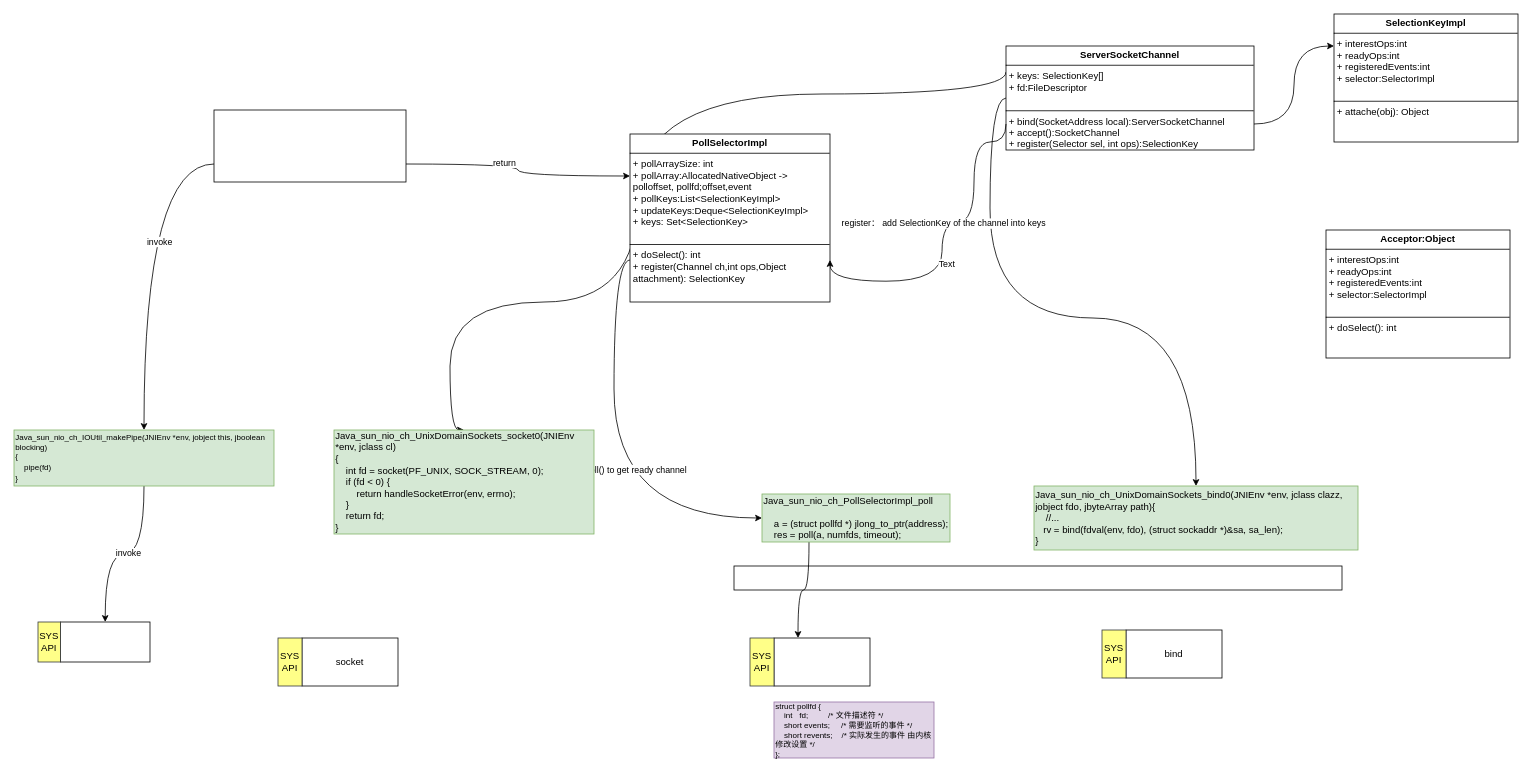
Image size: 1532x773. Some labels were removed from this diagram. The box of each missing label's shape, as (x1, y1, x2, y2) in pixels:
int pipe(int pipefd[2]);: (60, 621, 150, 662)
int poll(struct pollfd *fds, unsigned int nfds, int timeout): (773, 637, 870, 686)
Selector + open(): Selector: (213, 109, 406, 182)
